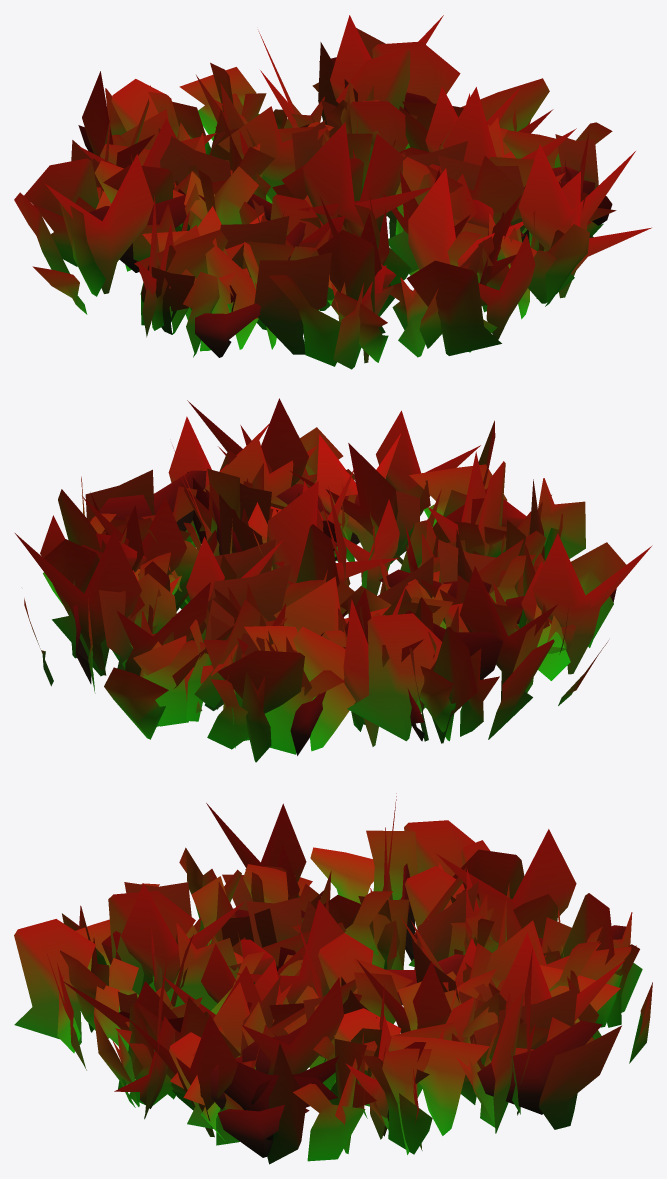
Rendered from Grass_01.fbx.
3 views of the same model, one above another, from view 1: azimuth 30°, elevation 25°; view 2: azimuth 150°, elevation 25°; view 3: azimuth 270°, elevation 25° (orthographic). The views are drawn at different scales.
Parts seen in each view (by area): view 1: Grass_01; view 2: Grass_01; view 3: Grass_01.
Part boxes in pixels (<box>): Grass_01: <box>14,15,651,369</box>; Grass_01: <box>15,398,652,762</box>; Grass_01: <box>14,793,652,1164</box>.
Size of the model in its own units: 85.22 by 23.73 by 85.32.
